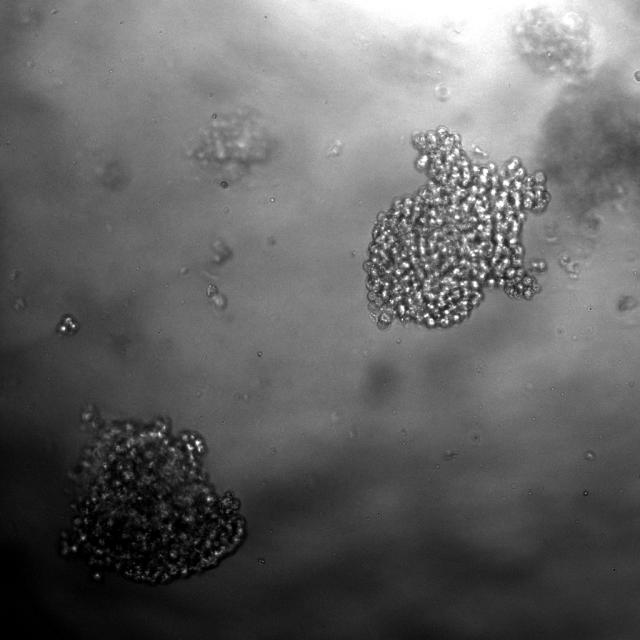organoid: (363, 126, 550, 328), (60, 405, 246, 585), (514, 7, 639, 234), (186, 110, 275, 183), (206, 283, 227, 309), (56, 314, 79, 336), (529, 258, 547, 272)
